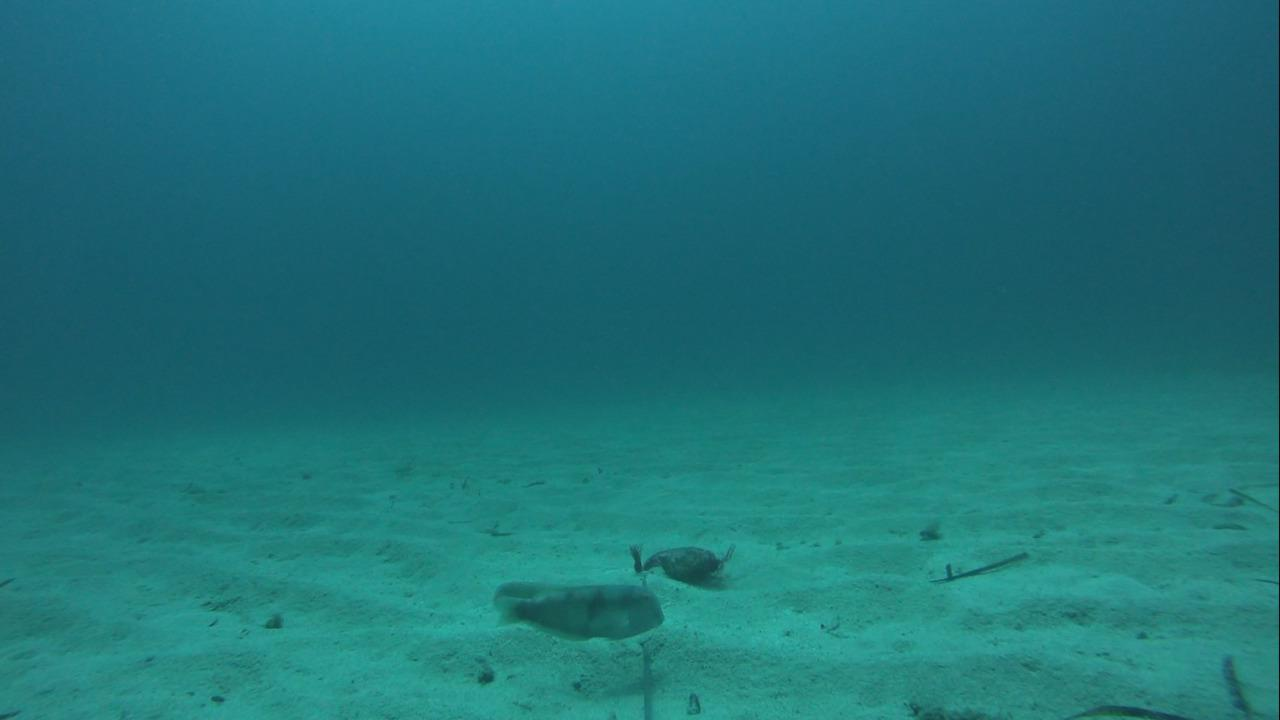raor: (495, 579, 663, 646)
